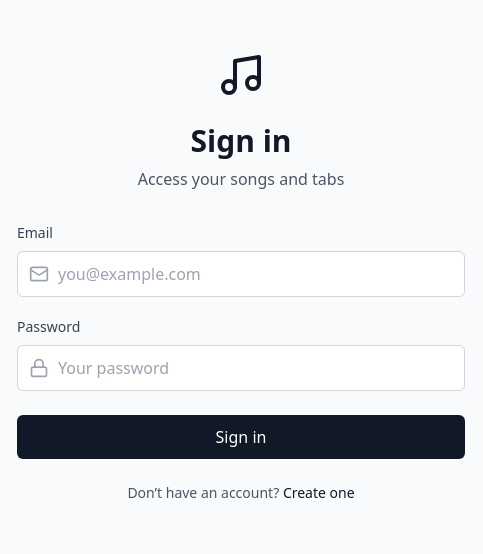
Test: Login › shows an error message when signIn fails
In the field labelled "Email": (241,274) [17,251,465,297], type "test@example.com"
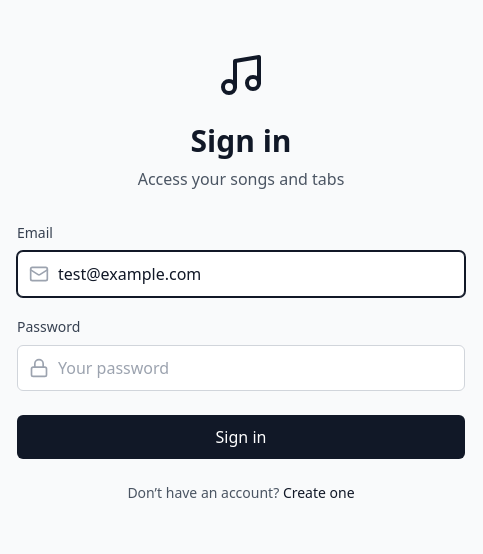
In the password field labelled "Password": (241,368) [17,345,465,391], type "wrongpassword"
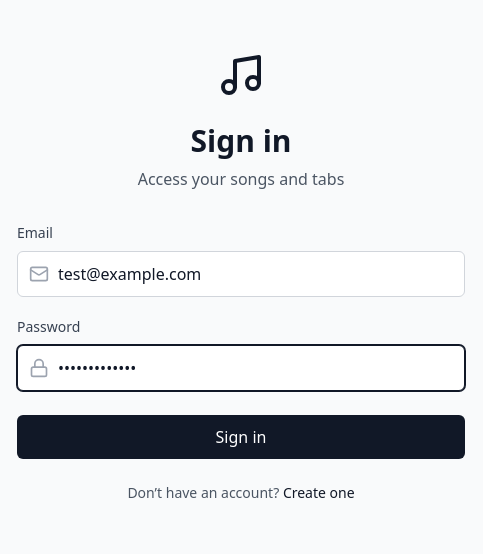
Click the button "Sign in": (241,437) [17,415,465,459]
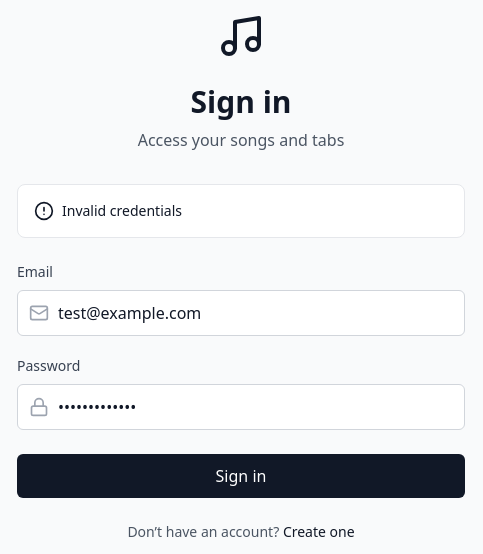
Now the text "Invalid credentials" is shown, box [62,201,182,221]
